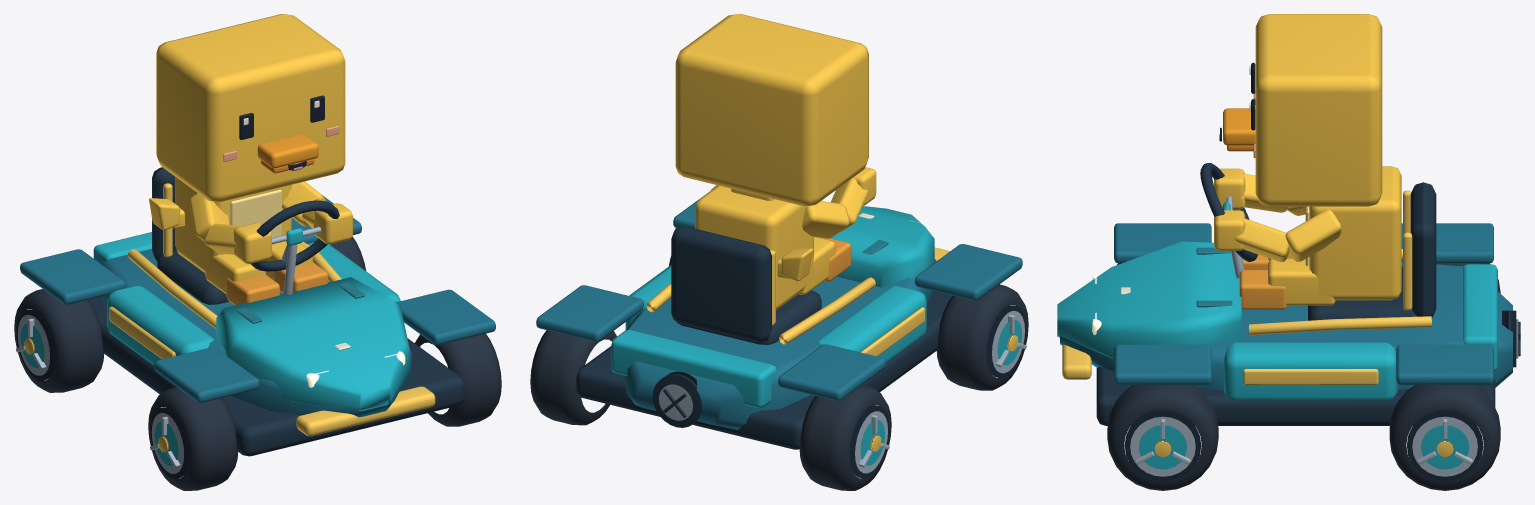
File: kart_bebek.glb
The picture shows the model from 3 angles, left to right: view 1: azimuth 30°, elevation 25°; view 2: azimuth 150°, elevation 25°; view 3: azimuth 270°, elevation 25°; orthographic projection. The views are drawn at different scales.
Visible parts, largest first — view 1: chassis, driver_pose, wheel_fl_spin, wheel_rl_spin, wheel_fr_spin, steering, tail, eyes; view 2: chassis, driver_pose, wheel_rl_spin, wheel_fl_spin, wheel_rr_spin, tail; view 3: chassis, driver_pose, wheel_rr_spin, wheel_fr_spin, steering.
Boxes of the visible parts, x1,y1,x2,y2 form: chassis: [20, 167, 495, 456]; driver_pose: [156, 14, 352, 305]; wheel_fl_spin: [148, 387, 237, 490]; wheel_rl_spin: [14, 289, 104, 392]; wheel_fr_spin: [415, 333, 501, 426]; steering: [250, 200, 339, 271]; tail: [149, 198, 184, 229]; eyes: [239, 95, 324, 139]; chassis: [536, 200, 1022, 449]; driver_pose: [675, 14, 876, 310]; wheel_rl_spin: [799, 384, 891, 490]; wheel_fl_spin: [936, 284, 1028, 390]; wheel_rr_spin: [530, 330, 616, 425]; tail: [777, 248, 812, 281]; chassis: [1057, 182, 1520, 425]; driver_pose: [1214, 14, 1401, 309]; wheel_rr_spin: [1389, 385, 1500, 490]; wheel_fr_spin: [1107, 385, 1218, 490]; steering: [1200, 163, 1257, 261].
Size of what is drawn, in the model's own units: 1.46 by 1.51 by 1.71.
